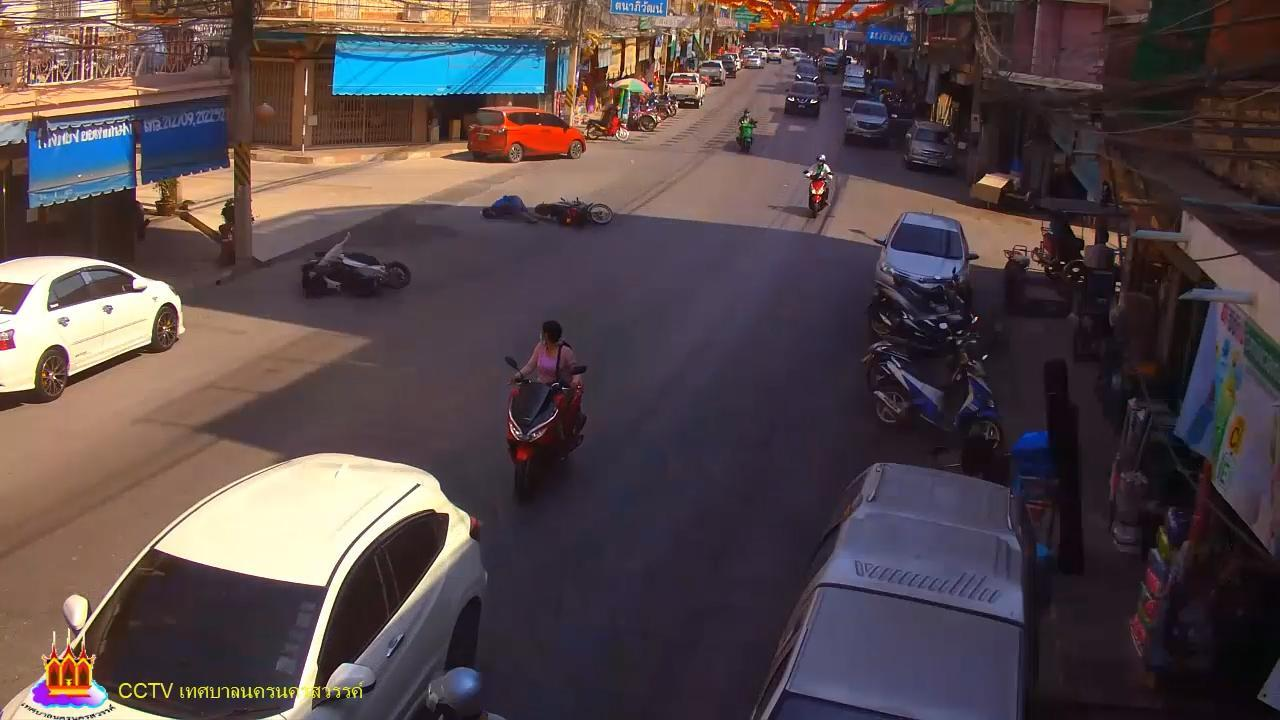accident: (478, 193, 549, 224)
